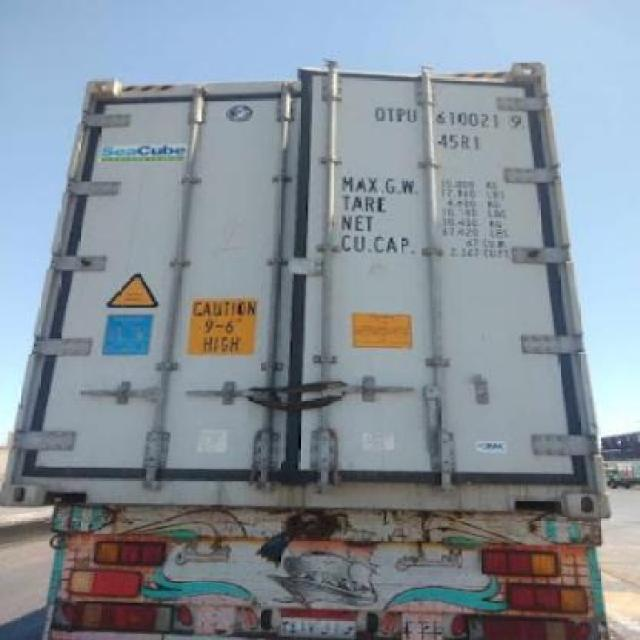ISO: (436, 131, 482, 151)
container_number: (372, 112, 524, 129)
